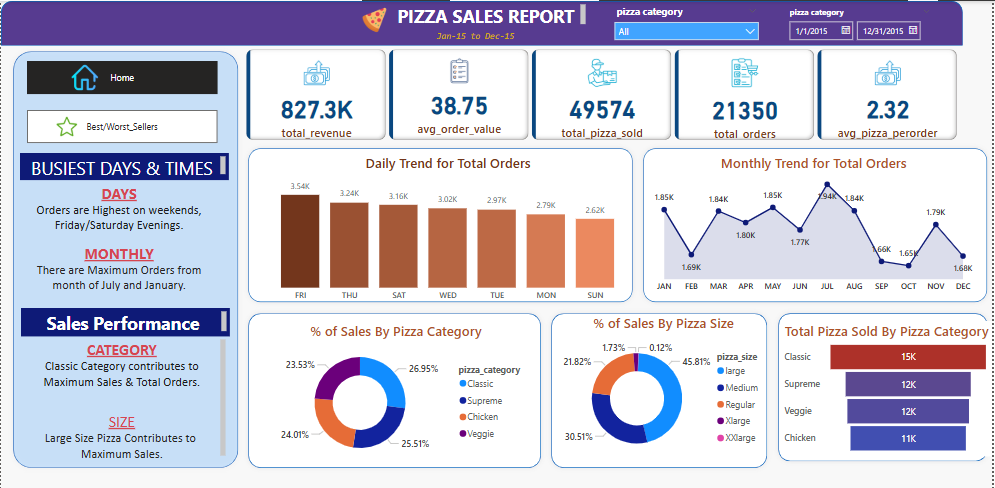

This screenshot's page, from the dashboard's own definition file:
{"tool":"powerbi","page":{"name":"Home","canvas":[1500,820],"ordinal":0},"visuals":[{"type":"cardVisual","fields":{"Data":["pizzadb pizza_sales.total_revenue","pizzadb pizza_sales.avg_order_value","pizzadb pizza_sales.total_pizza_sold","pizzadb pizza_sales.total_orders","pizzadb pizza_sales.avg_pizza_perorder"]},"box":[366.2,67.5,1088.8,147.5],"z":0},{"type":"shape","box":[10,67.5,356.2,646.2],"z":1000},{"type":"shape","box":[0,0,1455,67.5],"z":2000},{"type":"textbox","box":[585,0,303.8,42.5],"z":3000},{"type":"textbox","box":[647.5,37.5,140,30],"z":4000},{"type":"textbox","box":[28.8,230,316.2,41.2],"z":5000},{"type":"image","box":[527.5,5,73.8,47.5],"z":6000},{"type":"shape","box":[366.2,215,597.5,248.8],"z":7000},{"type":"columnChart","title":"Daily Trend for Total Orders","fields":{"Category":["pizzadb pizza_sales.order day"],"Y":["pizzadb pizza_sales.total_orders"]},"box":[388.8,230,575,233.8],"z":8000},{"type":"shape","box":[963.8,215,536.2,248.8],"z":9000},{"type":"areaChart","title":"Monthly Trend for Total Orders","fields":{"Y":["pizzadb pizza_sales.total_orders"],"Category":["pizzadb pizza_sales.order_month"]},"box":[981.2,230,495,220],"z":10000},{"type":"shape","box":[366.2,463.8,458.8,250],"z":11000},{"type":"donutChart","title":"% of Sales By Pizza Category","fields":{"Category":["pizzadb pizza_sales.pizza_category"],"Y":["pizzadb pizza_sales.total_revenue"]},"box":[388.8,483.8,417.5,220],"z":12000},{"type":"shape","box":[825,463.8,342.5,250],"z":13000},{"type":"donutChart","title":"% of Sales By Pizza Size","fields":{"Y":["pizzadb pizza_sales.total_revenue"],"Category":["pizzadb pizza_sales.pizza_size"]},"box":[836.2,472.5,331.2,231.2],"z":14000},{"type":"shape","box":[1167.5,463.8,332.5,240],"z":15000},{"type":"funnel","title":"Total Pizza Sold By Pizza Category","fields":{"Category":["pizzadb pizza_sales.pizza_category"],"Y":["pizzadb pizza_sales.total_pizza_sold"]},"box":[1180,483.8,320,205],"z":16000},{"type":"textbox","box":[38.8,271.2,278.8,178.8],"z":17000},{"type":"textbox","box":[28.8,506.2,316.2,197.5],"z":18000},{"type":"textbox","box":[30,463.8,316.2,42.5],"z":19000},{"type":"slicer","fields":{"Values":["pizzadb pizza_sales.pizza_category"]},"box":[918.8,0,237.5,67.5],"z":20000},{"type":"slicer","fields":{"Values":["pizzadb pizza_sales.order_date"]},"box":[1180,2.5,237.5,65],"z":21000},{"type":"pageNavigator","box":[38.8,91.2,288.8,50],"z":21001},{"type":"pageNavigator","box":[38.8,165,288.8,50],"z":21002},{"type":"image","box":[100,91.2,53.8,50],"z":21003},{"type":"image","box":[73.8,168.8,51.2,41.2],"z":21004}]}

Visuals, with their boxes on the page's 1500x820 design canvas (x1, y1, x2, y2). These are canvas units, not pixel positions in the 995x488 screenshot, which may show the page scaled, cropped or inside an application window:
cardVisual - pizzadb pizza_sales.total_revenue x pizzadb pizza_sales.avg_order_value: left=366, top=68, right=1455, bottom=215
shape: left=10, top=68, right=366, bottom=714
shape: left=0, top=0, right=1455, bottom=68
textbox: left=585, top=0, right=889, bottom=42
textbox: left=648, top=38, right=788, bottom=68
textbox: left=29, top=230, right=345, bottom=271
image: left=528, top=5, right=601, bottom=52
shape: left=366, top=215, right=964, bottom=464
"Daily Trend for Total Orders" columnChart: left=389, top=230, right=964, bottom=464
shape: left=964, top=215, right=1500, bottom=464
"Monthly Trend for Total Orders" areaChart: left=981, top=230, right=1476, bottom=450
shape: left=366, top=464, right=825, bottom=714
"% of Sales By Pizza Category" donutChart: left=389, top=484, right=806, bottom=704
shape: left=825, top=464, right=1168, bottom=714
"% of Sales By Pizza Size" donutChart: left=836, top=472, right=1167, bottom=704
shape: left=1168, top=464, right=1500, bottom=704
"Total Pizza Sold By Pizza Category" funnel: left=1180, top=484, right=1500, bottom=689
textbox: left=39, top=271, right=318, bottom=450
textbox: left=29, top=506, right=345, bottom=704
textbox: left=30, top=464, right=346, bottom=506
slicer - pizzadb pizza_sales.pizza_category: left=919, top=0, right=1156, bottom=68
slicer - pizzadb pizza_sales.order_date: left=1180, top=2, right=1418, bottom=68
pageNavigator: left=39, top=91, right=328, bottom=141
pageNavigator: left=39, top=165, right=328, bottom=215
image: left=100, top=91, right=154, bottom=141
image: left=74, top=169, right=125, bottom=210
